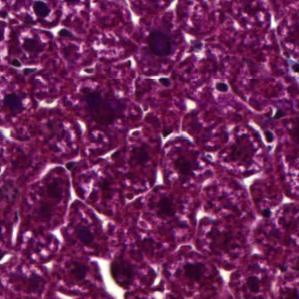inflammation: (155, 128, 202, 189)
